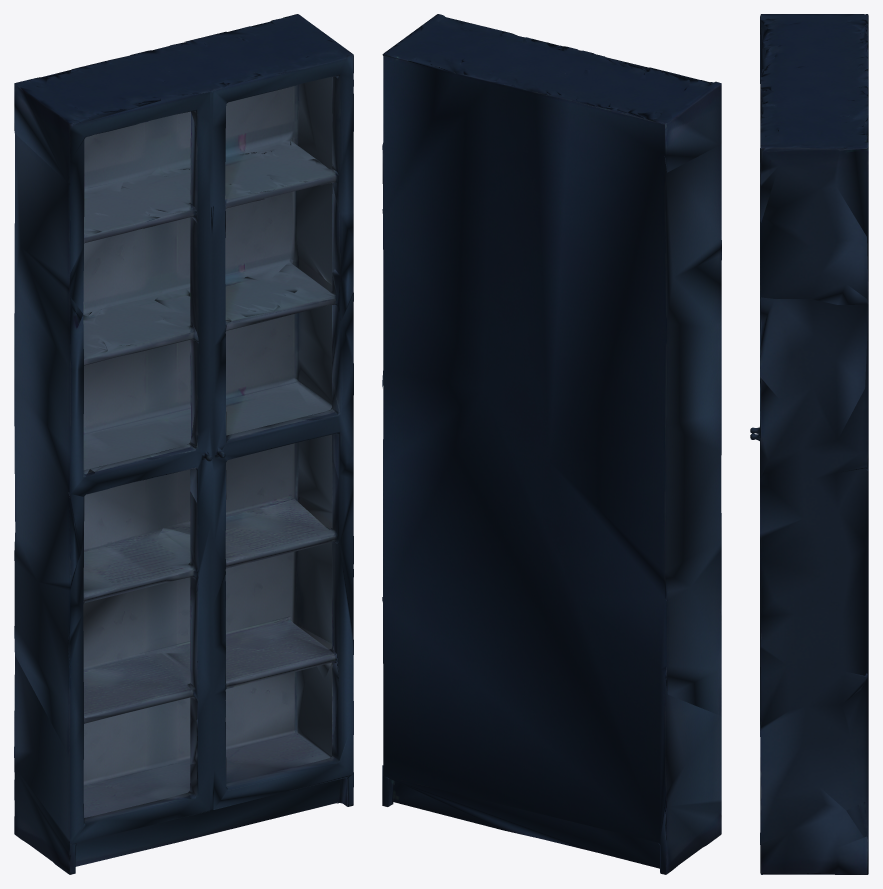
File: meshy-ikea-20323805.glb
The picture shows the model from 3 angles, left to right: view 1: azimuth 30°, elevation 25°; view 2: azimuth 150°, elevation 25°; view 3: azimuth 270°, elevation 25°; orthographic projection. The views are drawn at different scales.
Visible parts, largest first — view 1: Exact catalog scale: ikea-20323805; view 2: Exact catalog scale: ikea-20323805; view 3: Exact catalog scale: ikea-20323805.
Boxes of the visible parts, box(x1,y1,x2,y2) form: Exact catalog scale: ikea-20323805: box(14, 14, 353, 874); Exact catalog scale: ikea-20323805: box(382, 14, 721, 874); Exact catalog scale: ikea-20323805: box(750, 14, 868, 874).
Bounding box in the file's own units: 0.8 × 2.02 × 0.298.
Materials: 1 (1 with a texture image).
